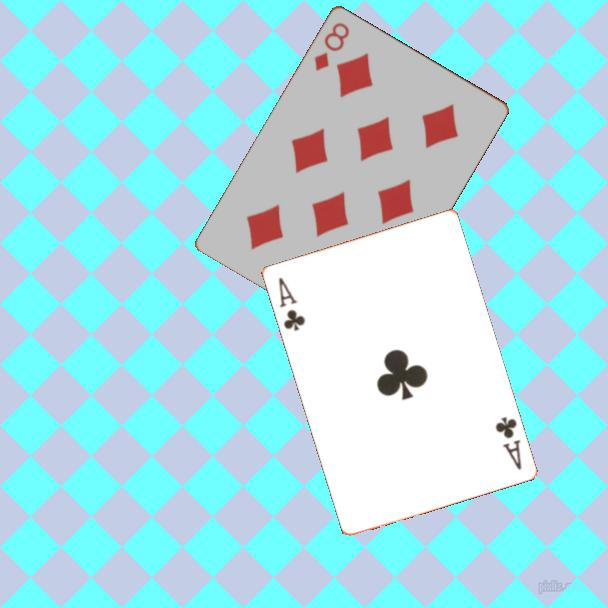c01: (274, 274, 308, 334), (491, 413, 524, 472)
d08: (310, 18, 352, 74)
